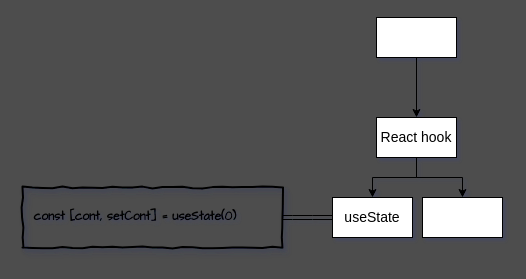
The diagram is 526 pixels wide and 279 high, and some of its shapes have lost their labels. The centre of each missing label's shape, as x and y in pixels:
React: the point at 416,37
useEffect: the point at 462,217
